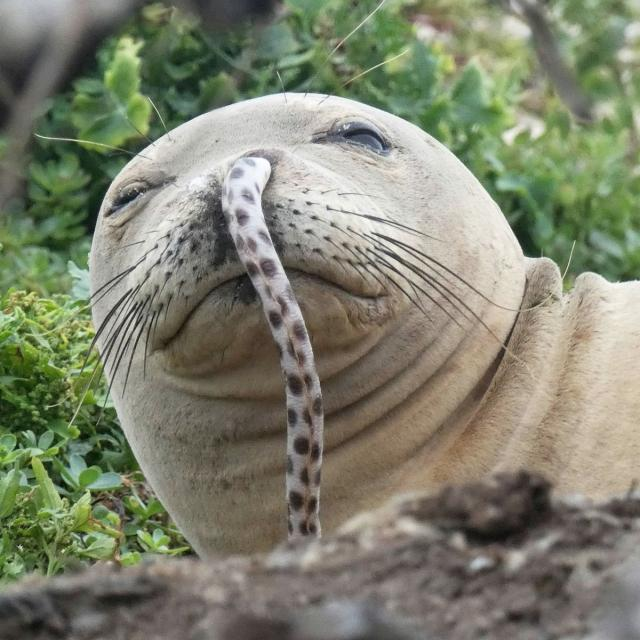seal: (90, 93, 640, 558)
